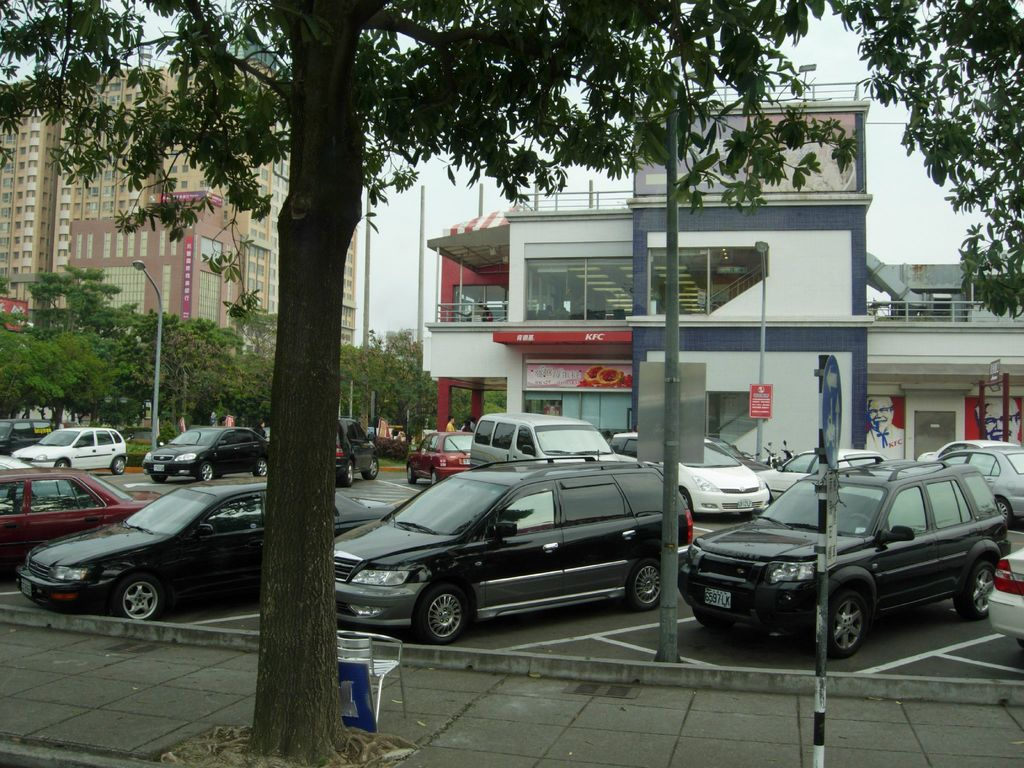Car: (0, 408, 1023, 661)
